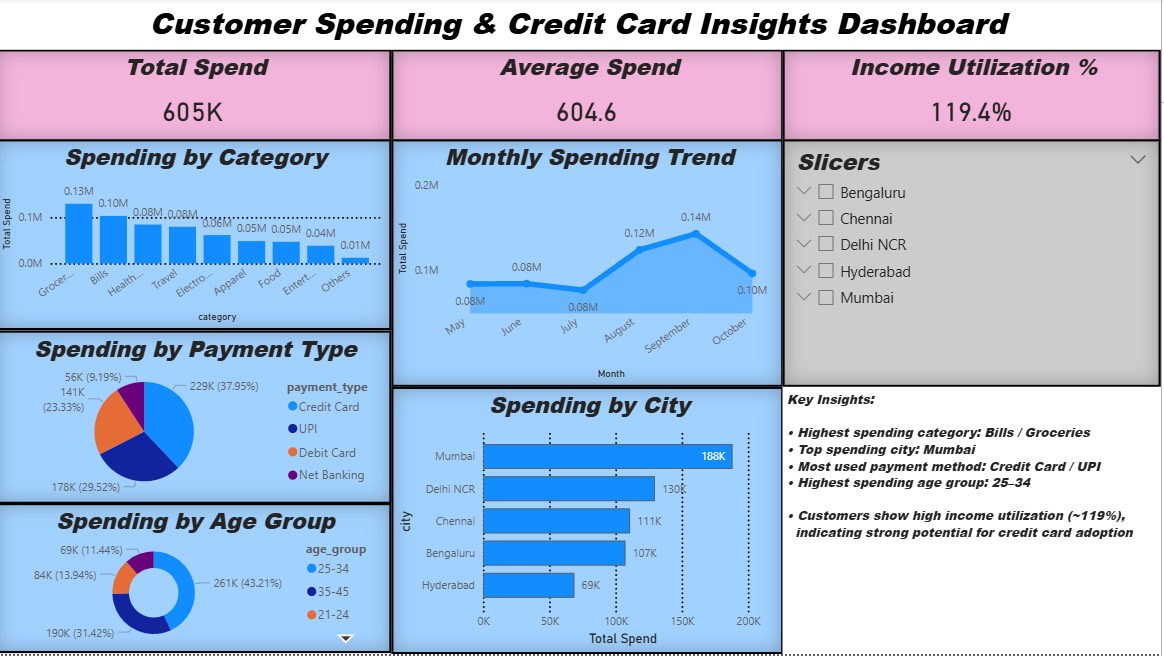

What the dashboard file says about the page in this screenshot:
{"tool":"powerbi","page":{"name":"Customer Spending & Credit Card Insights Dashboard","canvas":[1280,720],"ordinal":0},"visuals":[{"type":"card","title":"Total Spend","fields":{"Values":["customer_analysis.Total Spend"]},"box":[0,56.7,435,101.7],"z":0},{"type":"card","title":"Average Spend","fields":{"Values":["customer_analysis.Avg Spend"]},"box":[435,56.7,430,101.7],"z":1000},{"type":"card","title":"Income Utilization %","fields":{"Values":["customer_analysis.Income Utilization %"]},"box":[865,56.7,415,101.7],"z":2000},{"type":"clusteredColumnChart","title":"Spending by Category","fields":{"Category":["customer_analysis.category"],"Y":["customer_analysis.Total Spend"]},"box":[0,155.1,435,209.9],"z":3000},{"type":"lineChart","title":"Monthly Spending Trend","fields":{"Category":["customer_analysis.Date.Variation.Date Hierarchy.Month"],"Y":["customer_analysis.Total Spend"]},"box":[435,155,430,271.7],"z":4000},{"type":"pieChart","title":"Spending by Payment Type","fields":{"Category":["customer_analysis.payment_type"],"Y":["customer_analysis.Total Spend"]},"box":[0,365,435,190],"z":5000},{"type":"barChart","title":"Spending by City","fields":{"Y":["customer_analysis.Total Spend"],"Category":["customer_analysis.city"]},"box":[435,426.7,430,293.3],"z":6000},{"type":"donutChart","title":"Spending by Age Group","fields":{"Category":["customer_analysis.age_group"],"Y":["customer_analysis.Total Spend"]},"box":[0,555,435,165],"z":7000},{"type":"slicer","fields":{"Values":["customer_analysis.city","customer_analysis.gender","customer_analysis.age_group"]},"box":[865,155,415,271.7],"z":8000},{"type":"textbox","box":[865,426.7,415,293.3],"z":9000},{"type":"textbox","box":[0,0,1280,56.7],"z":10000}]}

Visuals, with their boxes in screenshot pixels (x1, y1, x2, y2), scaled from the page's 1280x720 canvas onto the 1164x656 screenshot:
"Total Spend" card: (0, 52, 396, 144)
"Average Spend" card: (396, 52, 787, 144)
"Income Utilization %" card: (787, 52, 1163, 144)
"Spending by Category" clusteredColumnChart: (0, 141, 396, 333)
"Monthly Spending Trend" lineChart: (396, 141, 787, 389)
"Spending by Payment Type" pieChart: (0, 333, 396, 506)
"Spending by City" barChart: (396, 389, 787, 655)
"Spending by Age Group" donutChart: (0, 506, 396, 655)
slicer - customer_analysis.city x customer_analysis.gender: (787, 141, 1163, 389)
textbox: (787, 389, 1163, 655)
textbox: (0, 0, 1163, 52)
